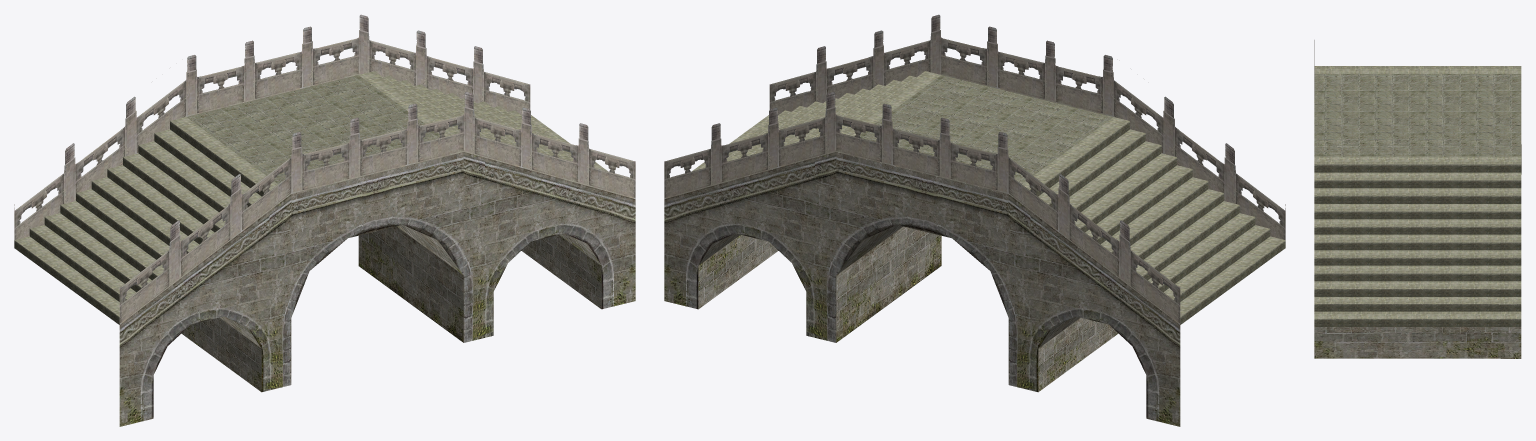
File: cj_pal_south_brid03.glb
The picture shows the model from 3 angles, left to right: view 1: azimuth 30°, elevation 25°; view 2: azimuth 150°, elevation 25°; view 3: azimuth 270°, elevation 25°; orthographic projection.
Visible parts, largest first — view 1: CJ_pal_south_brid03_wall, CJ_pal_south_brid03_fence_al, CJ_pal_south_brid03_floor01, CJ_pal_south_brid03_floor02; view 2: CJ_pal_south_brid03_wall, CJ_pal_south_brid03_fence_al, CJ_pal_south_brid03_floor01, CJ_pal_south_brid03_floor02; view 3: CJ_pal_south_brid03_floor01, CJ_pal_south_brid03_floor02, CJ_pal_south_brid03_wall.
Boxes of the visible parts, x1,y1,x2,y2 form: CJ_pal_south_brid03_wall: (119,152,635,426); CJ_pal_south_brid03_fence_al: (14,14,635,324); CJ_pal_south_brid03_floor01: (14,71,607,324); CJ_pal_south_brid03_floor02: (186,75,440,183); CJ_pal_south_brid03_wall: (664,152,1180,426); CJ_pal_south_brid03_fence_al: (664,14,1285,324); CJ_pal_south_brid03_floor01: (692,71,1285,324); CJ_pal_south_brid03_floor02: (859,75,1113,183); CJ_pal_south_brid03_floor01: (1314,66,1521,326); CJ_pal_south_brid03_floor02: (1314,74,1521,156); CJ_pal_south_brid03_wall: (1314,144,1521,358).
Bounding box in the file's own units: 13.37 × 6.24 × 4.72.
4 materials, 4 textured.
